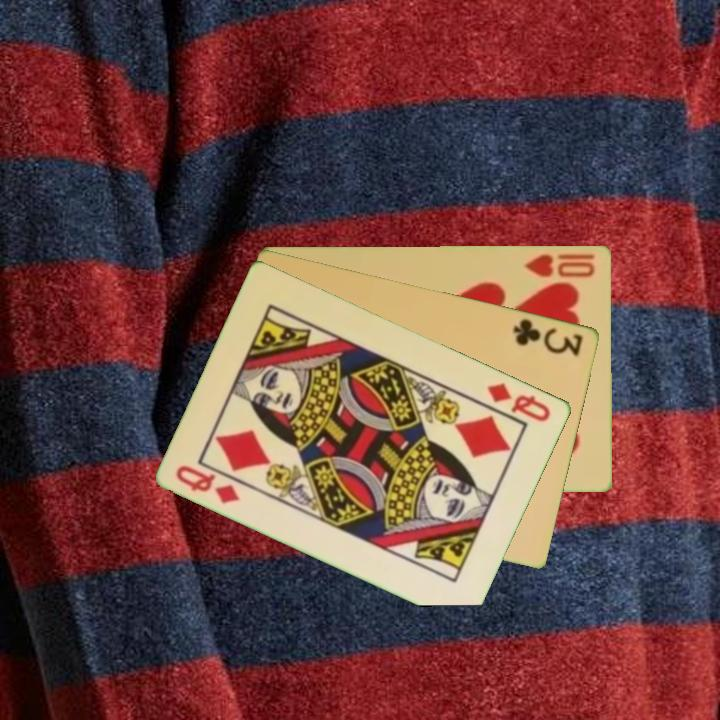10h: (522, 249, 599, 280)
3c: (510, 314, 586, 359)
Qd: (172, 461, 244, 507), (484, 379, 554, 425)
